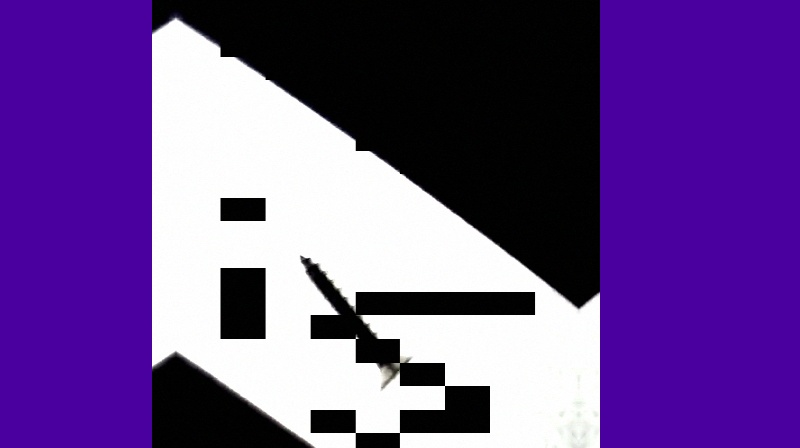S001: (296, 252, 418, 396)
